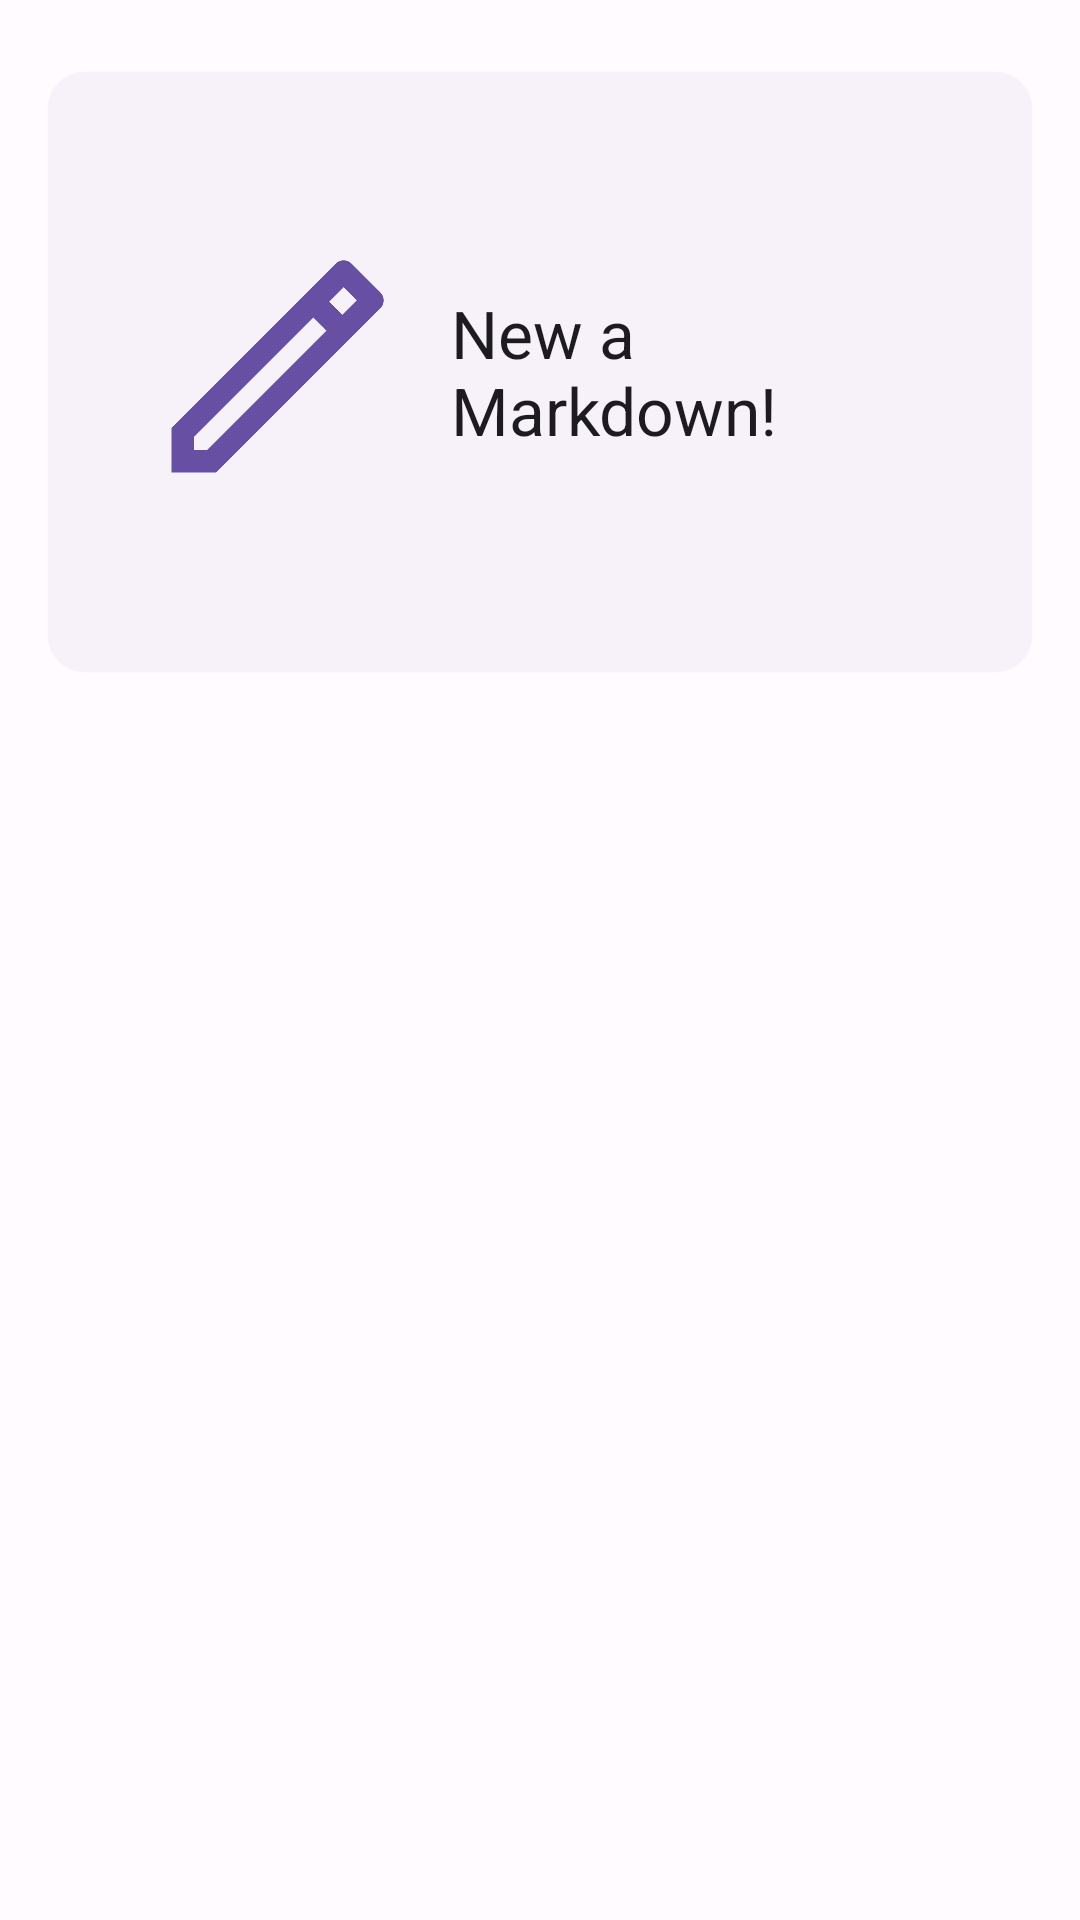

Screen size 1080w x 1920h. Icon name, then its box in pixels as {"x1": x1, "y1": y1, "x2": x2, "y2": y2}:
edit: {"x1": 171, "y1": 260, "x2": 384, "y2": 473}
